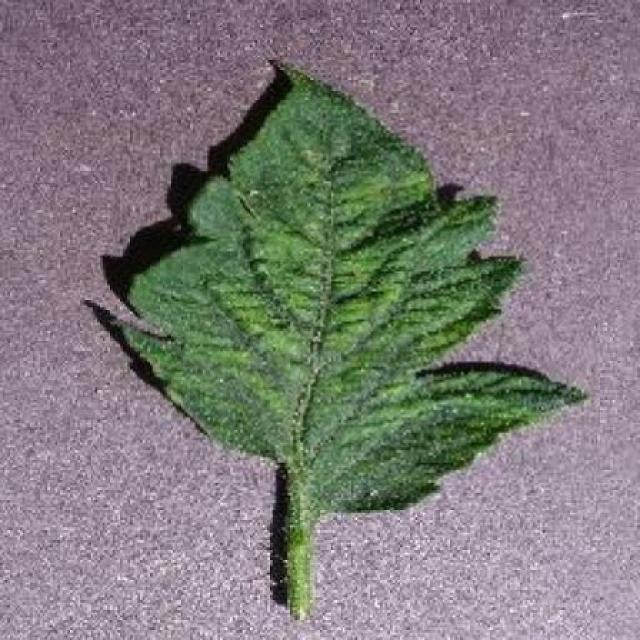Mosaic Virus: (110, 60, 596, 510)
